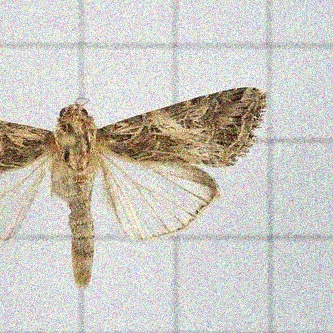Spodoptera litura: (1, 86, 270, 289)
